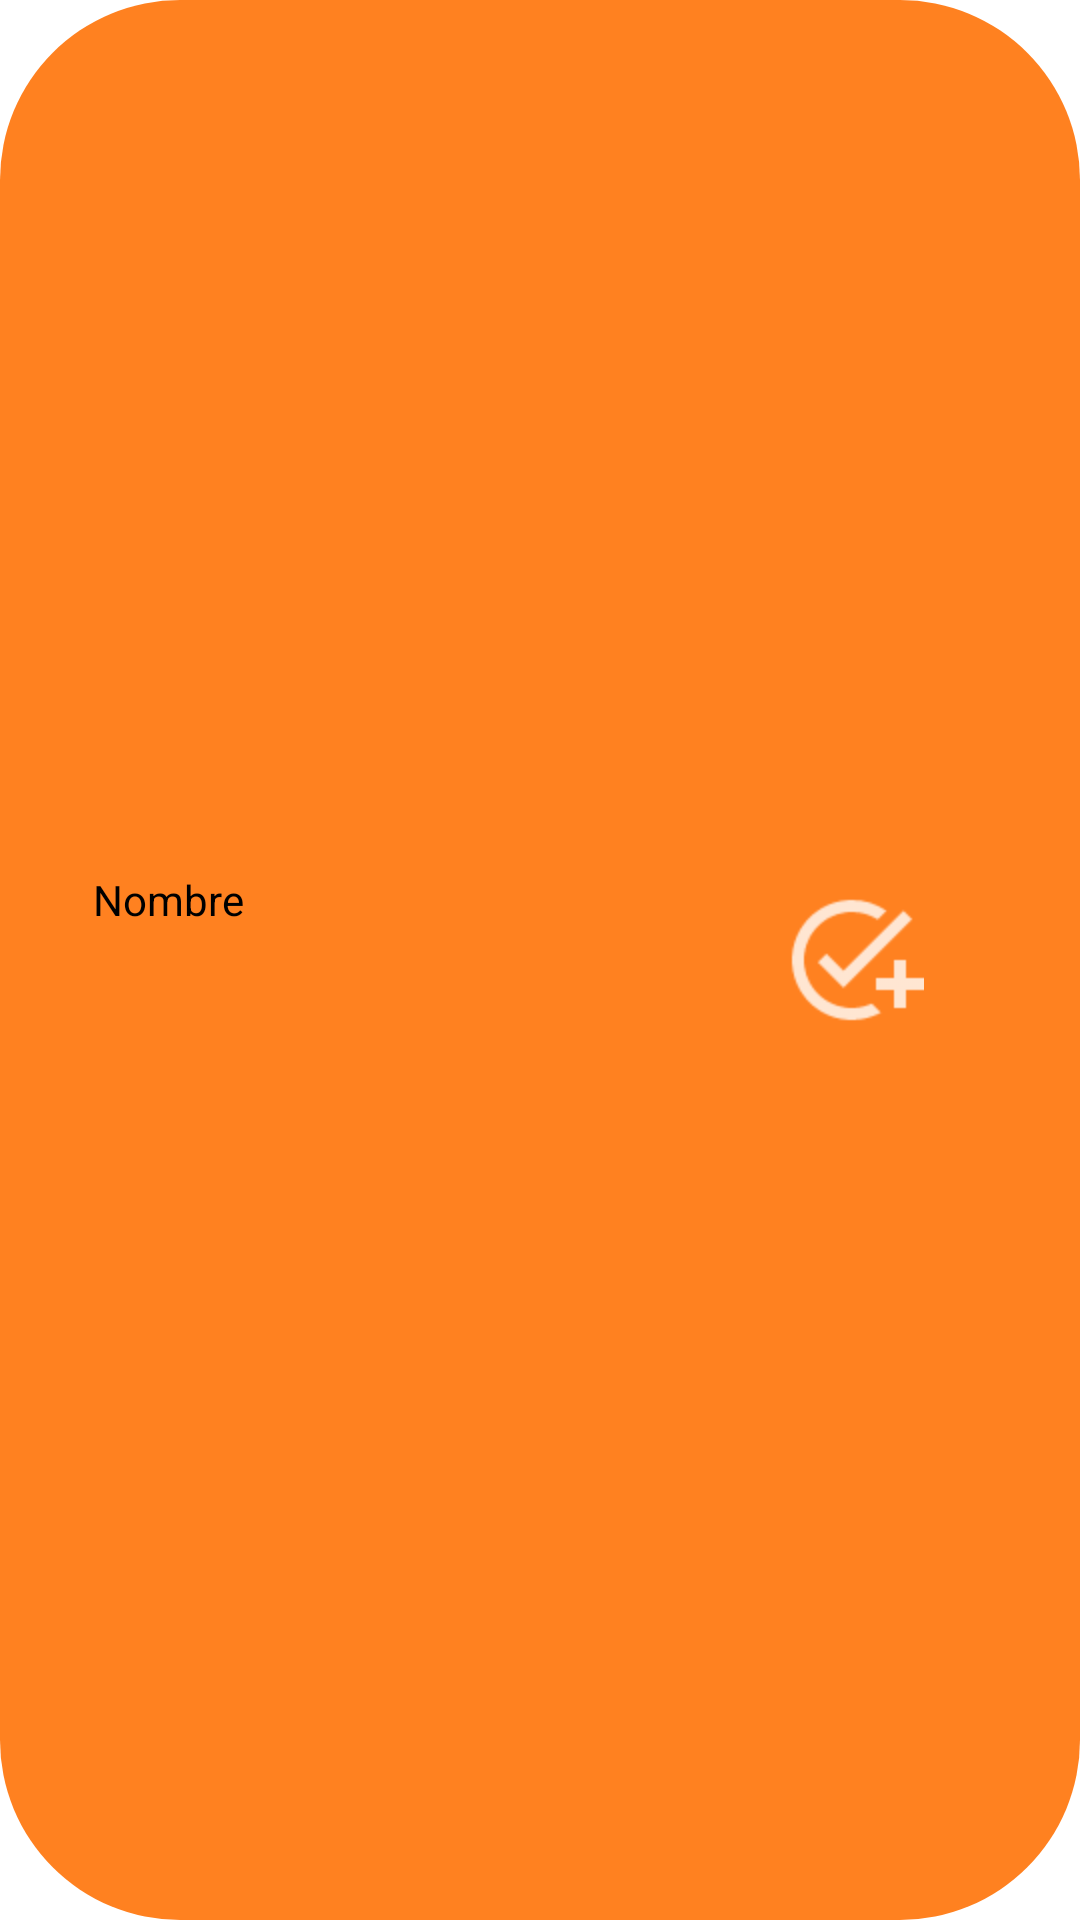

Where icons sit on this 1080px×1920px app screen, as BBox(x1, y1, x2, y2):
add: BBox(791, 899, 924, 1021)
